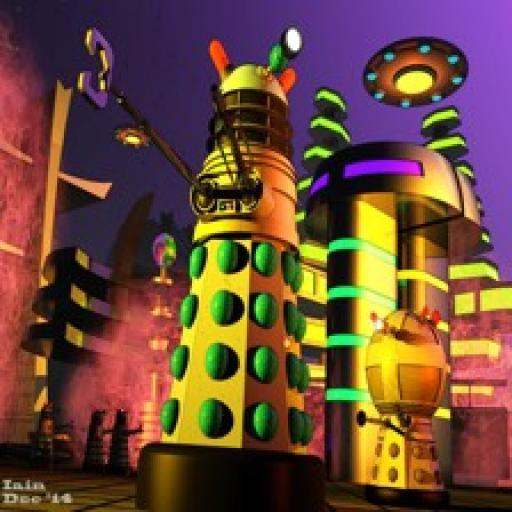dalek: (72, 17, 330, 512), (346, 309, 458, 507), (108, 406, 142, 469), (79, 405, 106, 469)
